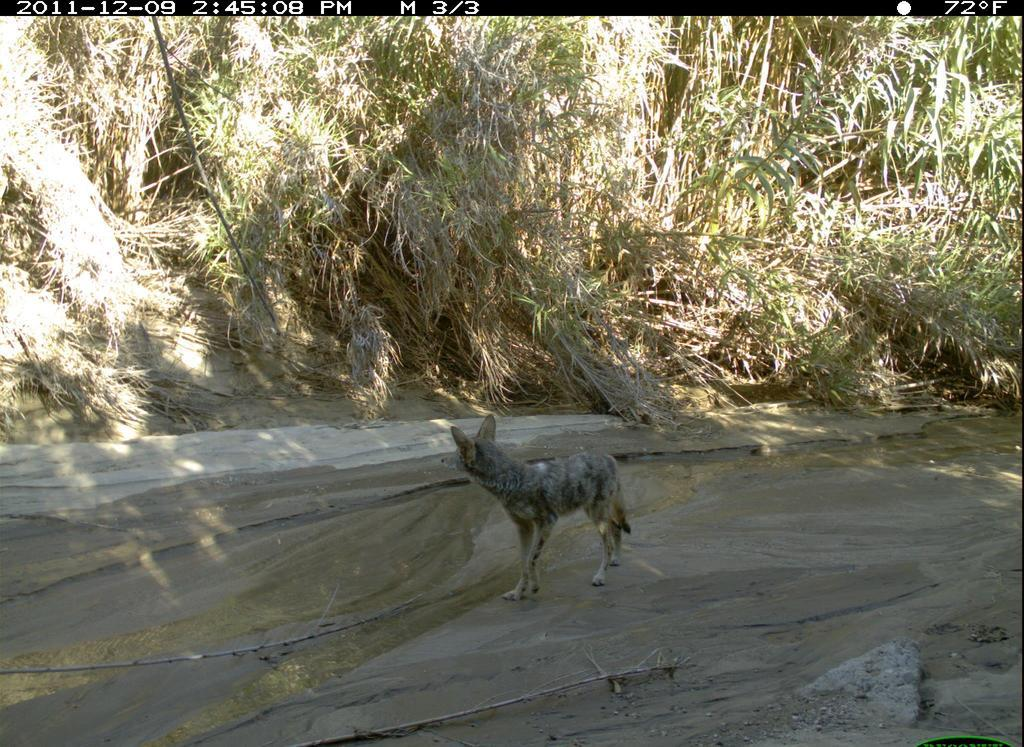coyote: (439, 413, 637, 602)
